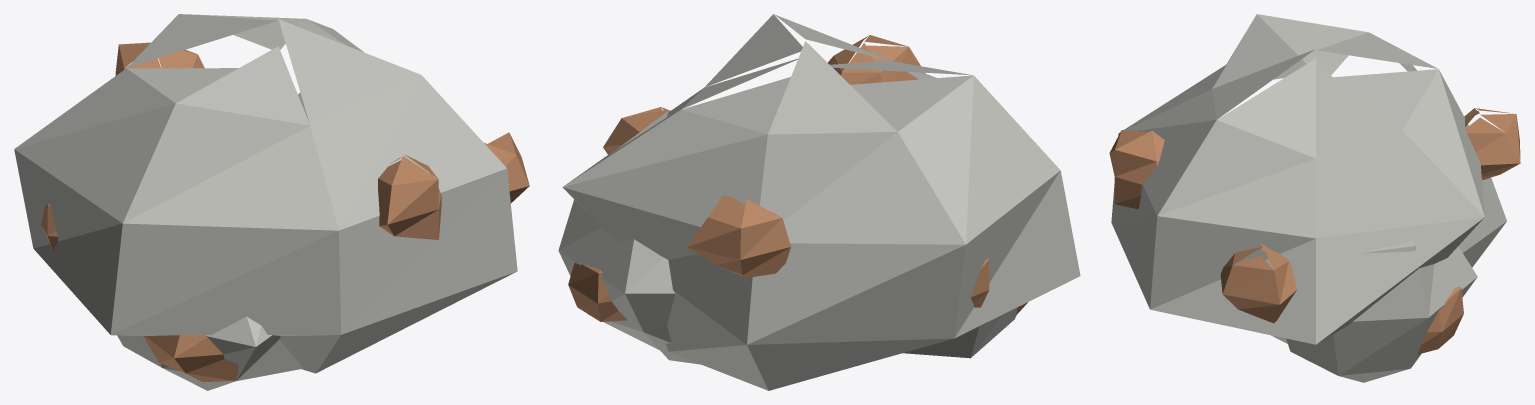
Rendered from wipe-day-survival-island-metal-ore-node-small-e50b07af__27420.glb.
The picture shows the model from 3 angles, left to right: view 1: azimuth 30°, elevation 25°; view 2: azimuth 150°, elevation 25°; view 3: azimuth 270°, elevation 25°; orthographic projection. The views are drawn at different scales.
Visible parts, largest first — view 1: metal-ore-node-small; view 2: metal-ore-node-small; view 3: metal-ore-node-small.
Part boxes in pixels (box(x1,y1,x2,y2)): metal-ore-node-small: box(14, 14, 529, 390); metal-ore-node-small: box(558, 14, 1080, 390); metal-ore-node-small: box(1109, 14, 1520, 382).
Bounding box in the file's own units: 0.9972 × 0.7306 × 0.8799.
